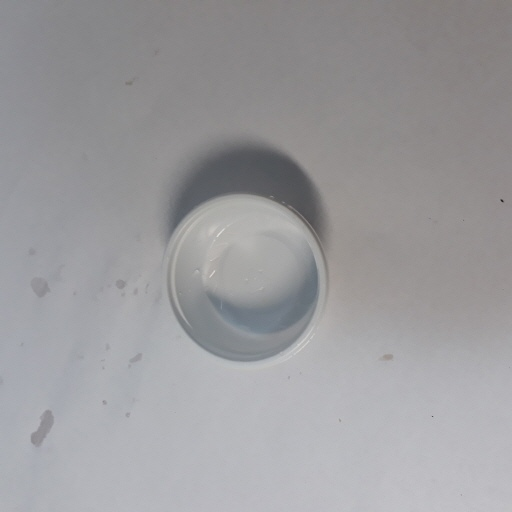Plastic_5: (159, 186, 331, 370)
